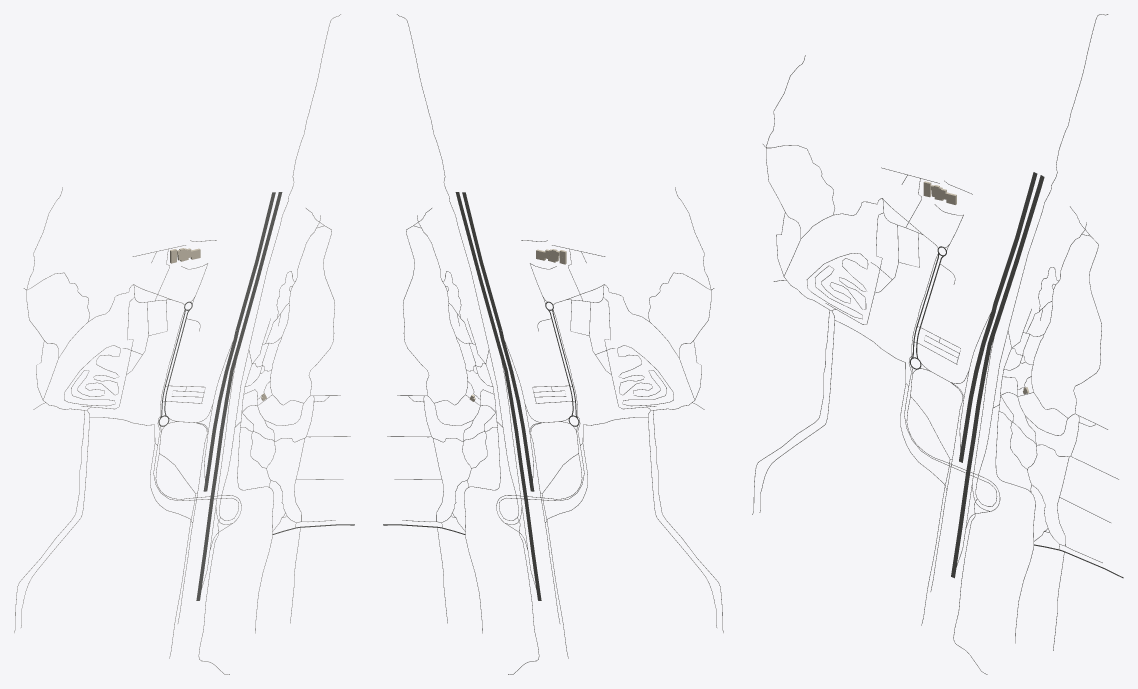
The model's file is historic-palestine-06_28_3483_3225.glb.
3 renders of one model, left to right at view 1: azimuth 30°, elevation 25°; view 2: azimuth 150°, elevation 25°; view 3: azimuth 330°, elevation 25°, orthographic. The views are drawn at different scales.
Visible parts, largest first — view 1: Road כביש החוף, Road .013, Road כביש החוף.003, Road כביש החוף.001, Road כביש החוף.002; view 2: Road כביש החוף, Road .013, Road כביש החוף.003, Road כביש החוף.001, Road כביש החוף.002; view 3: Road כביש החוף, Road כביש החוף.003, Road .013, Road כביש החוף.001, Road כביש החוף.002.
Boxes of the visible parts, left/top/right/bottom form: Road כביש החוף: left=196, top=341, right=241, bottom=600; Road .013: left=198, top=14, right=340, bottom=674; Road כביש החוף.003: left=203, top=330, right=238, bottom=491; Road כביש החוף.001: left=238, top=192, right=282, bottom=340; Road כביש החוף.002: left=235, top=192, right=275, bottom=330; Road כביש החוף: left=496, top=341, right=541, bottom=600; Road .013: left=397, top=14, right=539, bottom=674; Road כביש החוף.003: left=499, top=330, right=534, bottom=491; Road כביש החוף.001: left=455, top=192, right=499, bottom=340; Road כביש החוף.002: left=462, top=192, right=502, bottom=330; Road כביש החוף: left=951, top=316, right=1000, bottom=578; Road כביש החוף.003: left=959, top=303, right=997, bottom=462; Road .013: left=953, top=14, right=1108, bottom=674; Road כביש החוף.001: left=997, top=175, right=1044, bottom=317; Road כביש החוף.002: left=993, top=172, right=1037, bottom=304.
Bounding box in the file's own units: 1104 × 1961 × 8.7.
